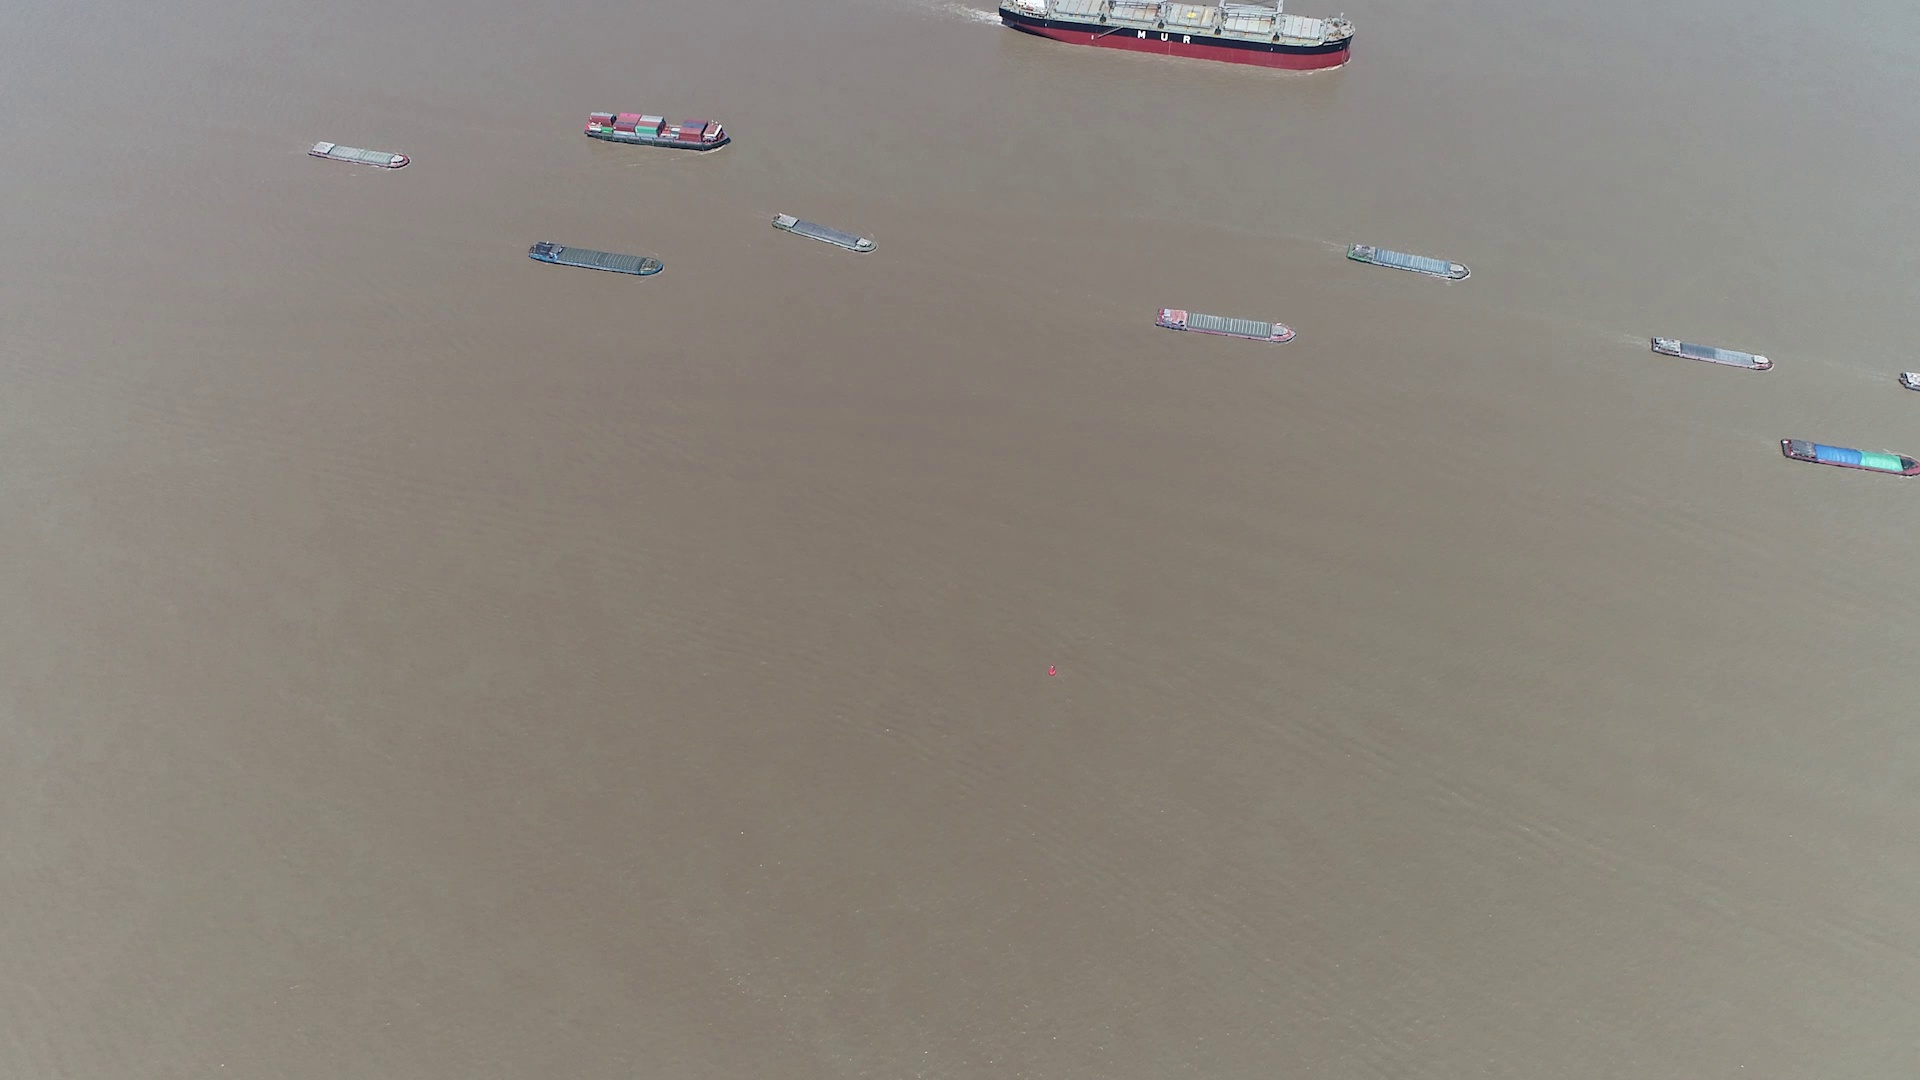ship: (996, 0, 1349, 69), (585, 111, 732, 150), (1780, 436, 1920, 476), (529, 240, 663, 280), (1156, 306, 1295, 344), (1346, 241, 1470, 282), (771, 214, 878, 257), (1651, 336, 1774, 371), (307, 140, 409, 169)
